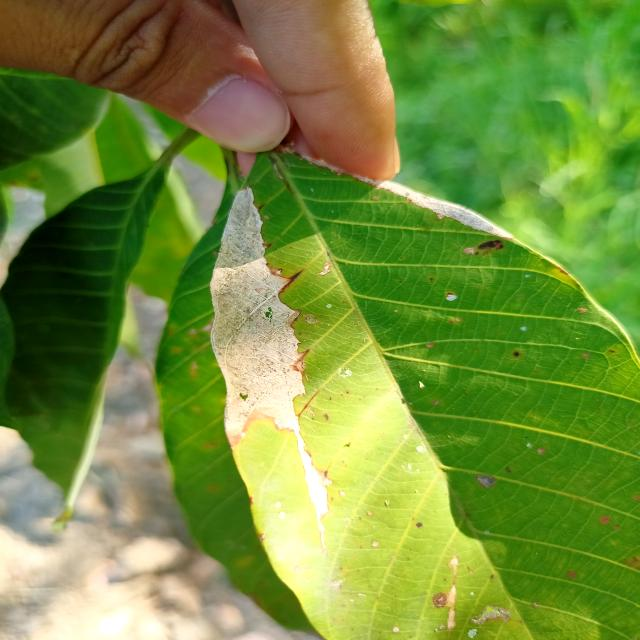Colletotrichum: (513, 351, 519, 357)
Leaf-Blight: (210, 187, 334, 552), (301, 155, 514, 238)
